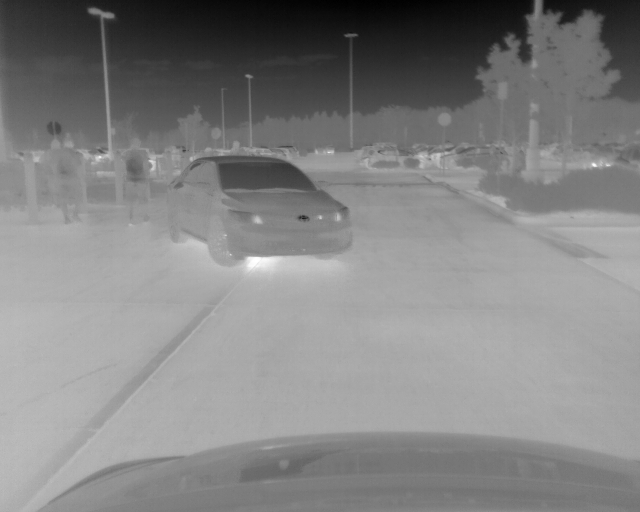car: (163, 154, 352, 267), (439, 145, 500, 170), (369, 147, 427, 169), (316, 146, 333, 154)
people: (121, 137, 152, 227), (56, 139, 86, 224), (39, 137, 62, 212), (514, 148, 526, 176), (226, 142, 245, 155)
